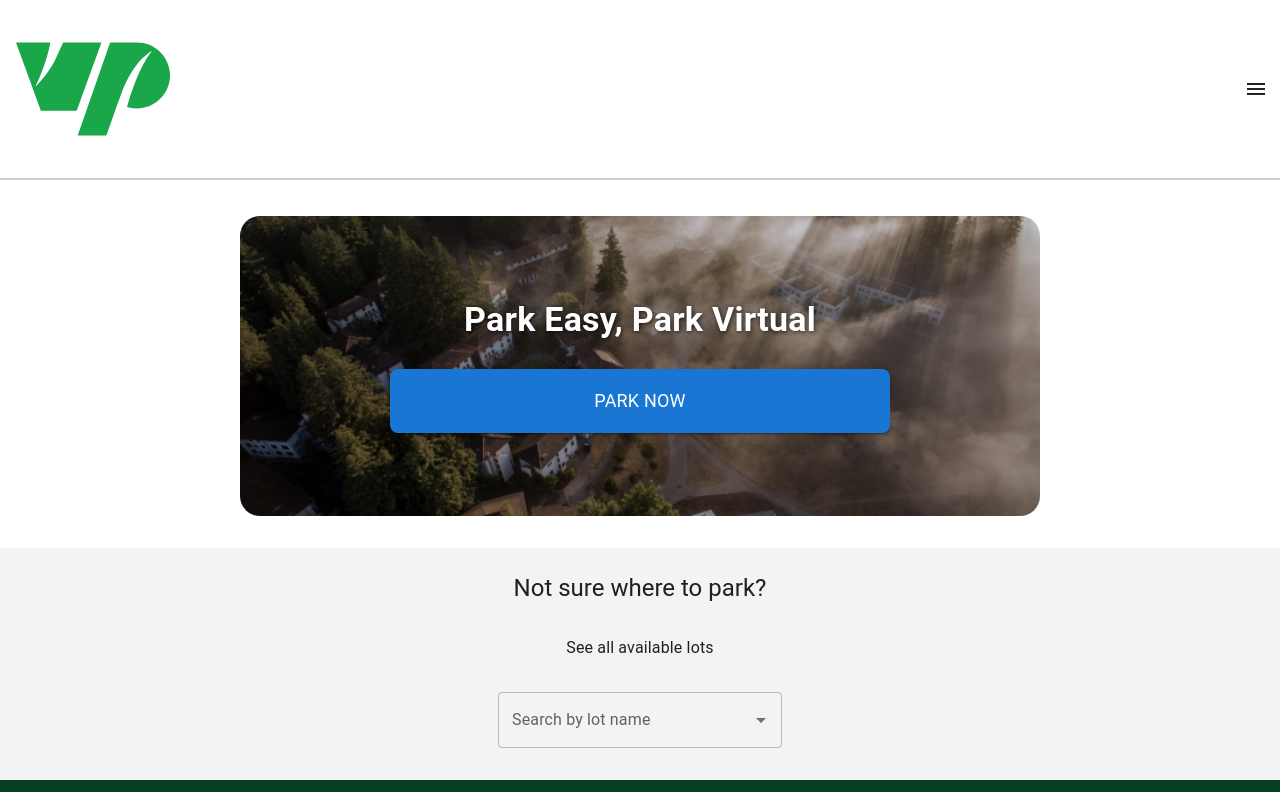
Test: renders lot list autocomplete with fetched options
Step 1. Click the dropdown labelled "Search by lot name" → [625, 720], box [507, 701, 743, 739]
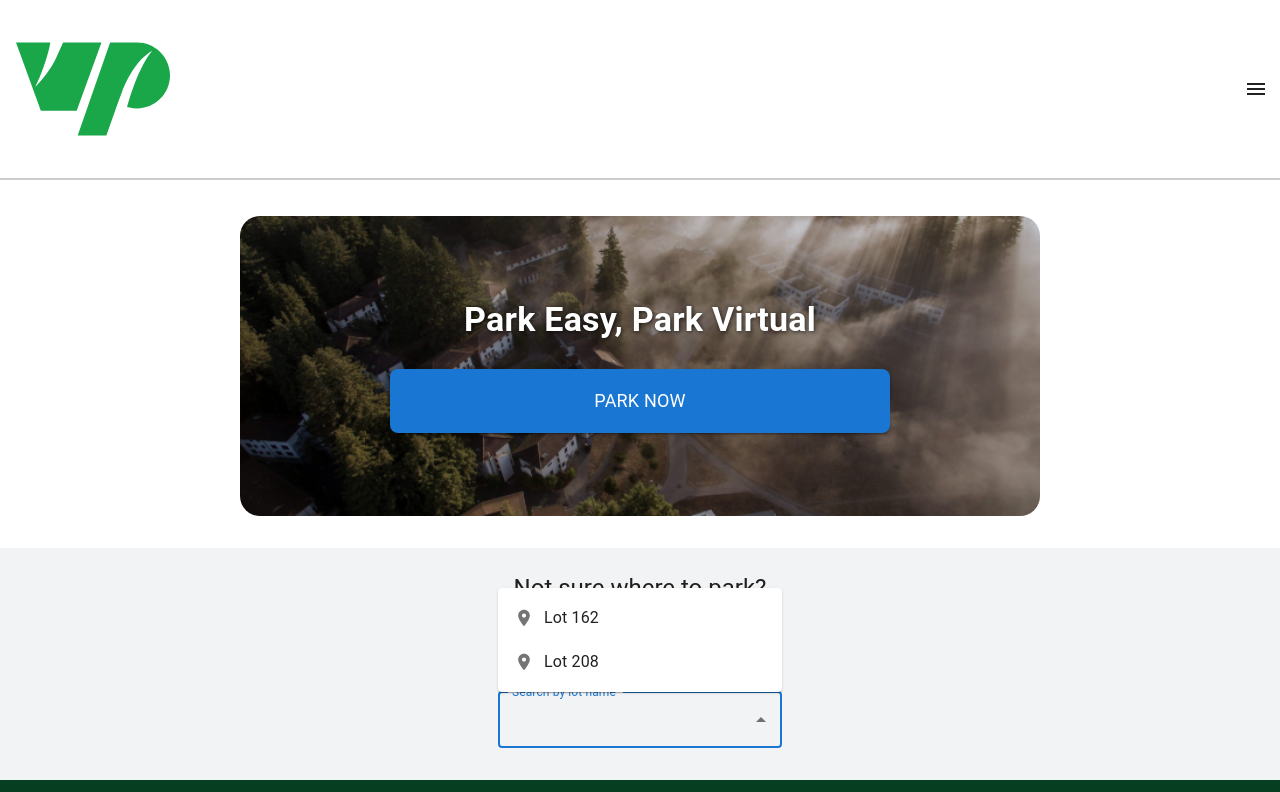
Result: the text "Lot 162" is shown at [544, 608, 599, 627]
